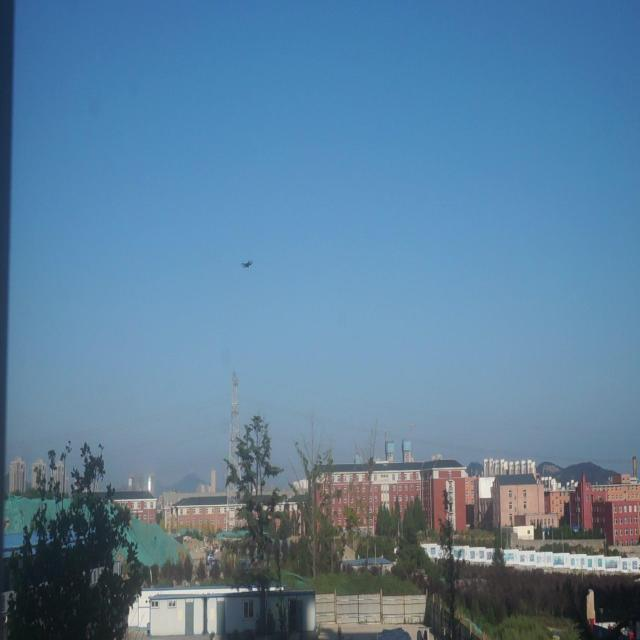drone: (239, 255, 255, 274)
